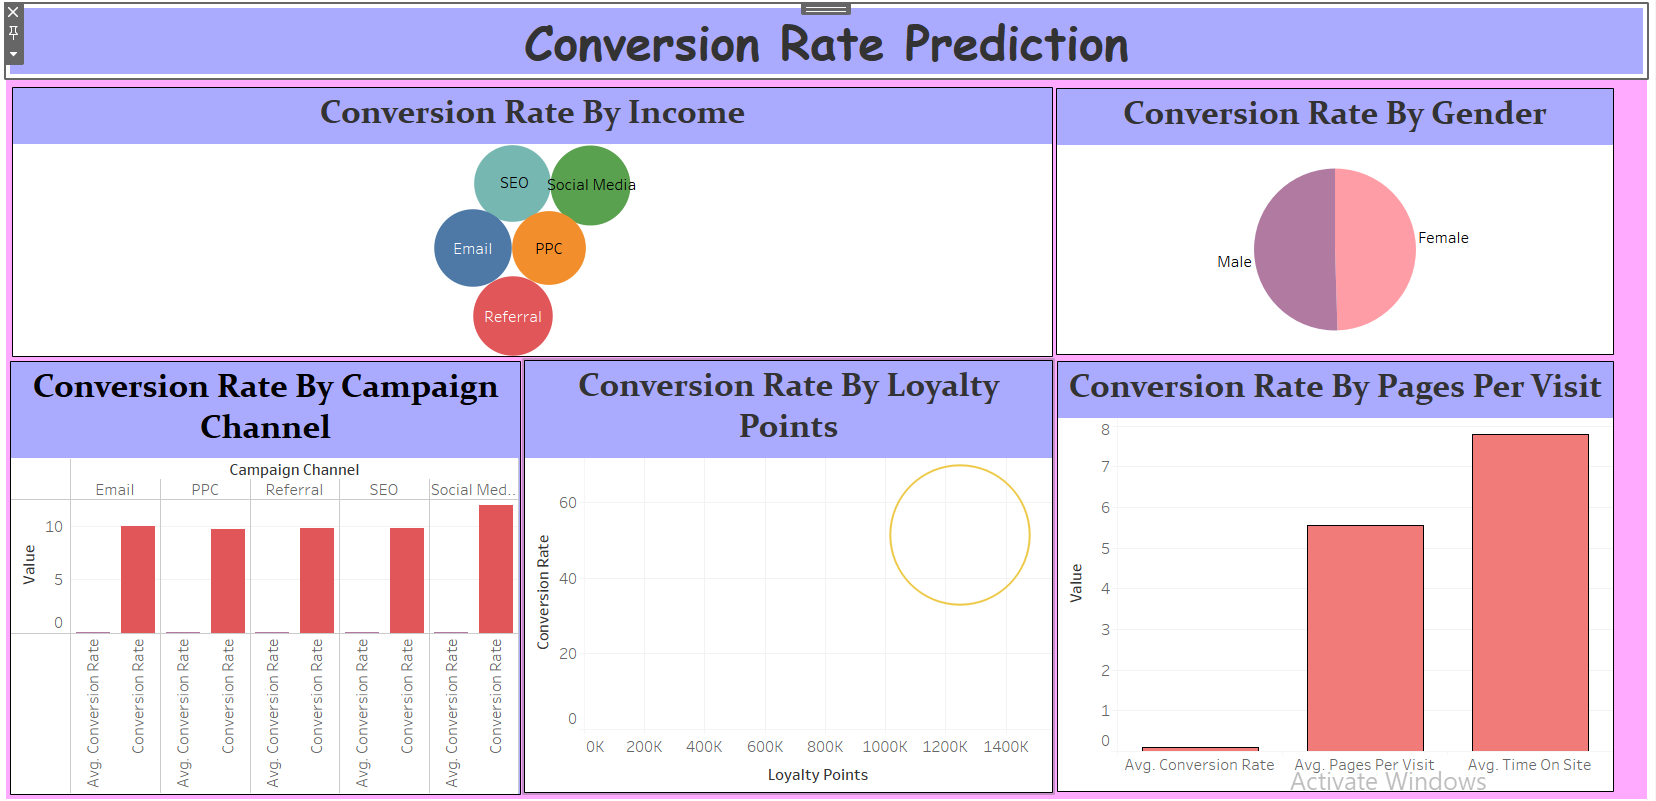

Layout of this report page (visuals, bound fields, positions):
{"tool":"tableau","page":{"name":"Dashboard 1","canvas":[1000,1000],"units":"permille","ordinal":0},"visuals":[{"type":"title","box":[4.8,9.9,990.3,91.2]},{"type":"worksheet","title":"Income","mark":"Circle","box":[8.4,112.2,628.2,332.9]},{"type":"worksheet","title":"Gender","mark":"Pie","box":[638.5,113.4,336.8,329.2]},{"type":"worksheet","title":"Loyalty points","mark":"Automatic","rows":["ConversionRate"],"cols":["LoyaltyPoints"],"box":[317.4,448.8,319.2,533.9]},{"type":"worksheet","title":"Camp Ch","mark":"Automatic","cols":["CampaignChannel"],"box":[7.2,450.1,308.4,535.1]},{"type":"worksheet","title":"Pages Per VIsit","mark":"Automatic","box":[639.1,450.1,336.2,531.4]}]}

Visuals, with their boxes on the dashboard's canvas, which has no fixed pixel size, in thousandths of its width and height (x1, y1, x2, y2). These are canvas units, not pixel positions in the 1656x801 screenshot, which may show the page scaled, cropped or inside an application window:
title: <region>5, 10, 995, 101</region>
"Income" worksheet (Circle marks): <region>8, 112, 637, 445</region>
"Gender" worksheet (Pie marks): <region>638, 113, 975, 443</region>
"Loyalty points" worksheet: <region>317, 449, 637, 983</region>
"Camp Ch" worksheet: <region>7, 450, 316, 985</region>
"Pages Per VIsit" worksheet: <region>639, 450, 975, 982</region>
